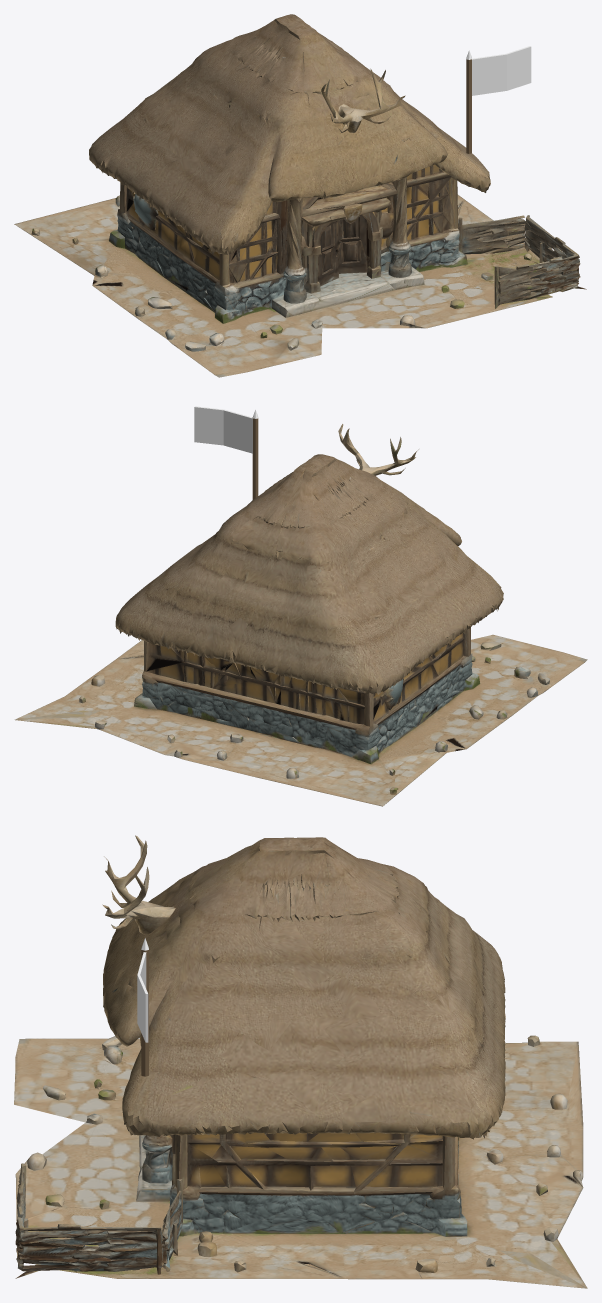
3 renders of one model, top to bottom at view 1: azimuth 30°, elevation 25°; view 2: azimuth 150°, elevation 25°; view 3: azimuth 270°, elevation 25°, orthographic. The views are drawn at different scales.
Parts seen in each view (by area): view 1: town_center, Team_banner; view 2: town_center, Team_banner; view 3: town_center, Team_banner.
Part boxes in pixels (x1=…): town_center: x1=14, y1=14, x2=586, y2=377; Team_banner: x1=466, y1=46, x2=531, y2=153; town_center: x1=14, y1=424, x2=587, y2=806; Team_banner: x1=194, y1=406, x2=258, y2=499; town_center: x1=14, y1=835, x2=587, y2=1288; Team_banner: x1=137, y1=938, x2=148, y2=1076.
Size of the model in its own units: 1.97 by 1.17 by 1.92.
Materials: 3 (1 with a texture image).
